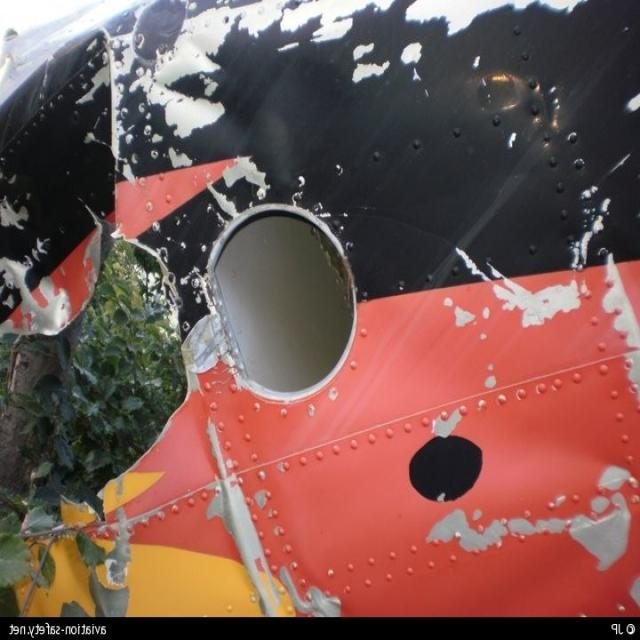dent: (492, 429, 620, 486), (271, 106, 303, 185), (218, 98, 253, 149)
